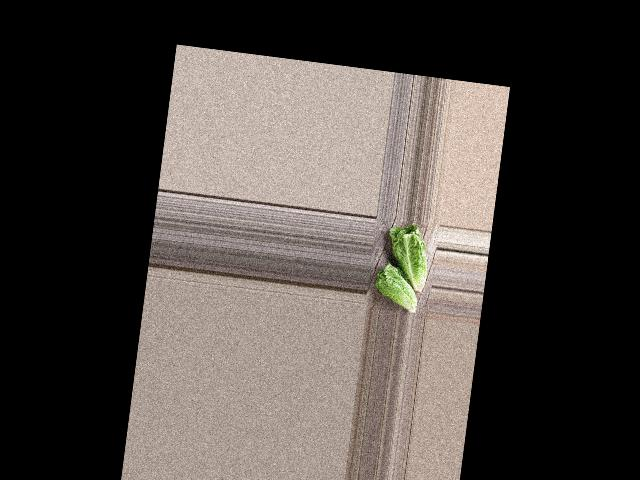lettuce: (367, 260, 424, 316)
